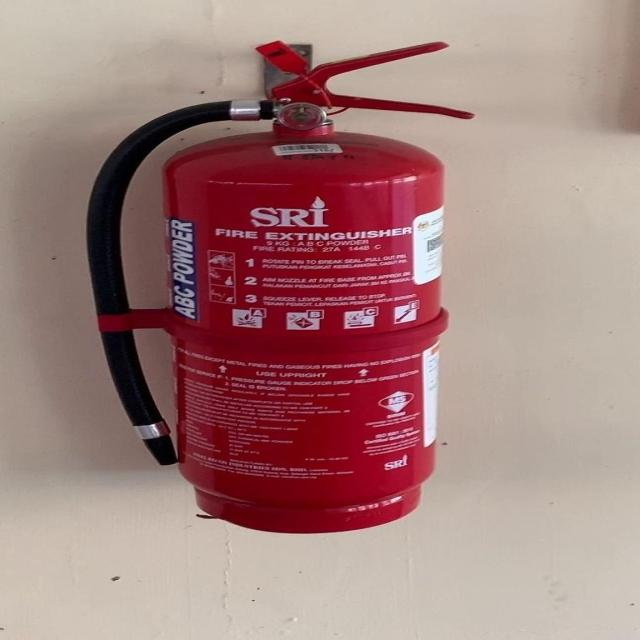fire_extinguisher: (77, 38, 481, 538)
